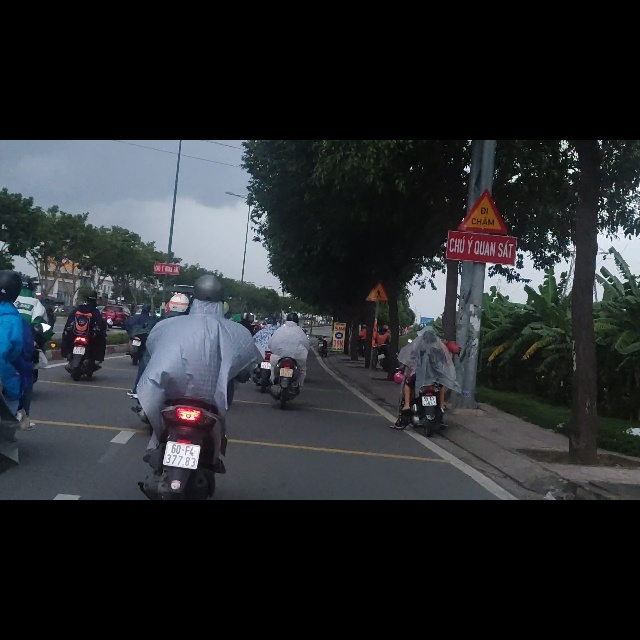bien_nguy_hiem: (457, 85, 507, 165), (366, 251, 388, 287)
